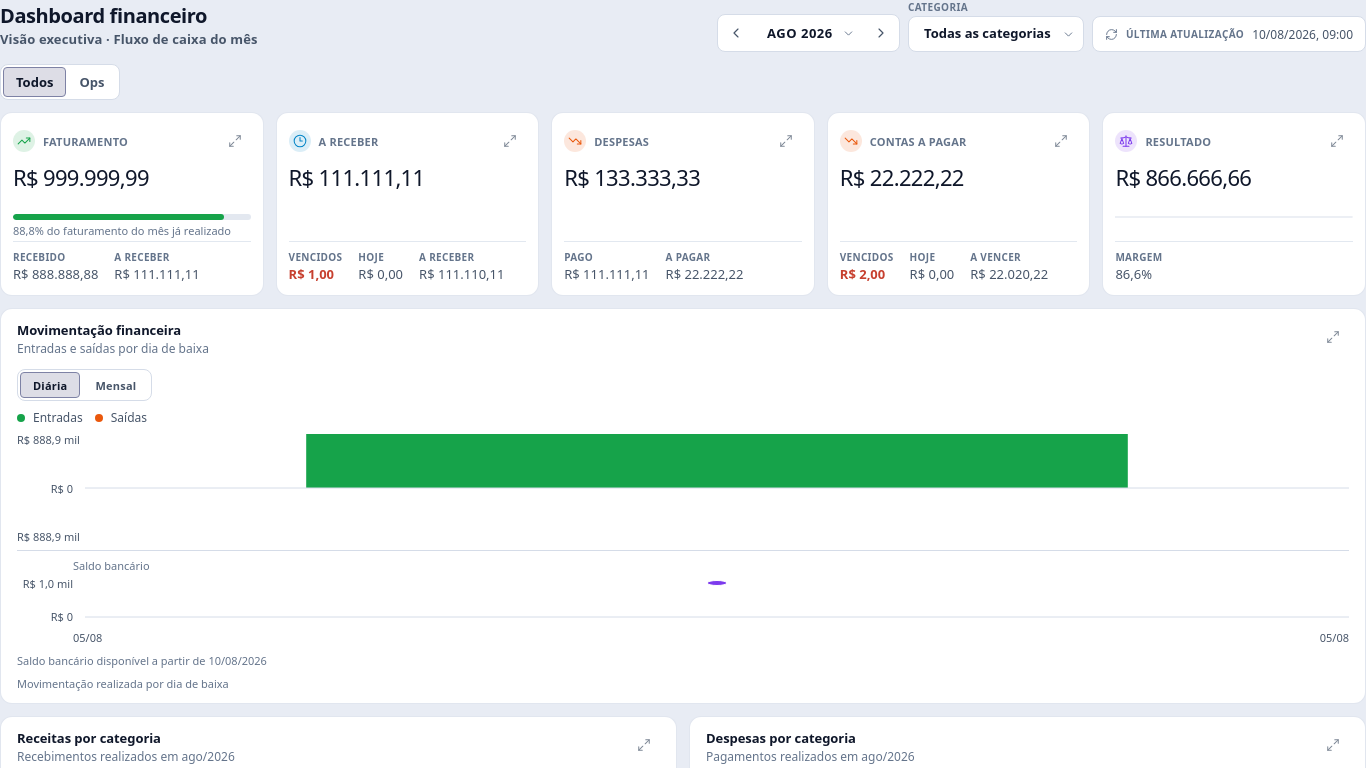
Test: 08-C3/C4 — linha de saldo bancário na Movimentação › Daily Realizado mostra Saldo bancário; Mensal Previsto não
This screenshot has width=1366, height=768.
Expected: the text "Saldo bancário" is shown, [73, 558, 150, 573]
Expected: the text "Saldo bancário disponível a partir de 10/08/2026" is shown, [17, 653, 267, 668]
Step 1. Click the button "Mensal" → (116, 385), box [82, 372, 149, 398]
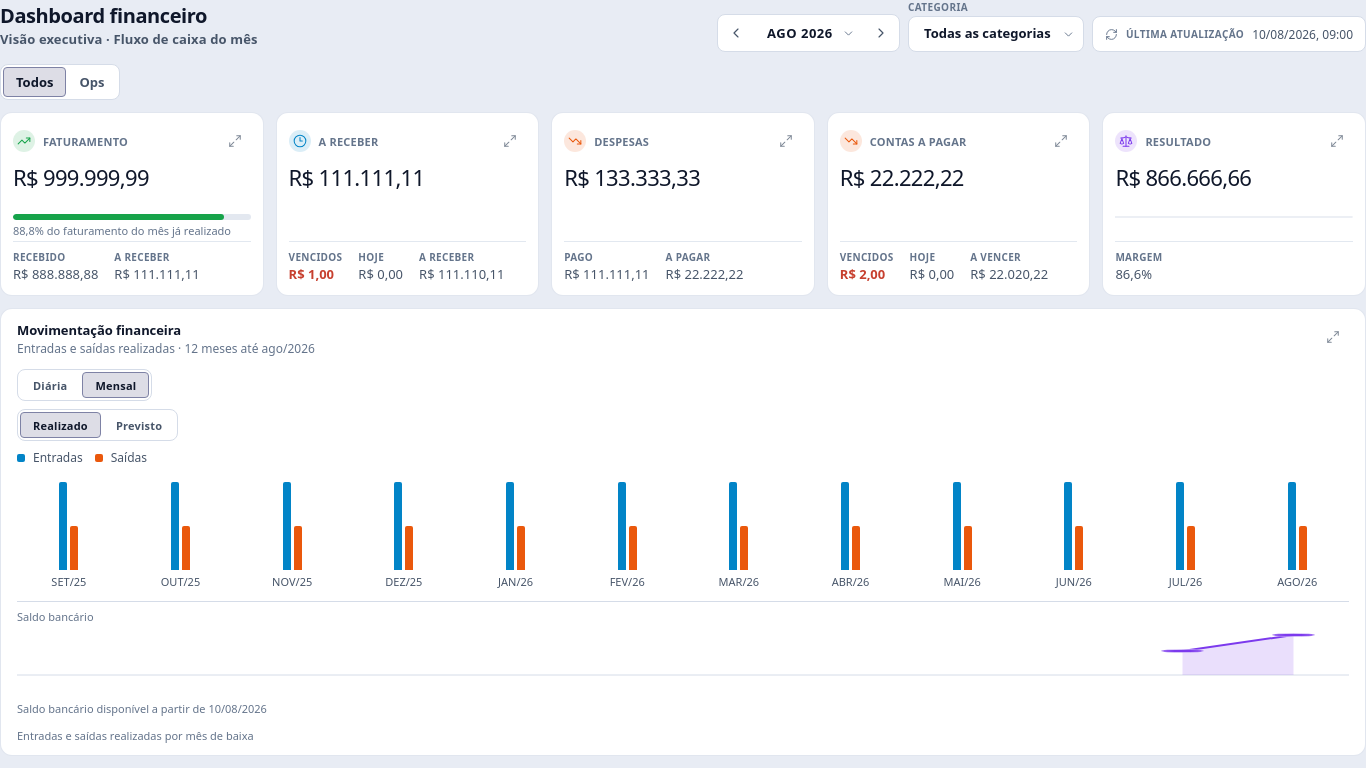
Expected: the text "Saldo bancário" is shown, [17, 609, 94, 624]
Step 2. Click the button "Previsto" → (139, 425), box [103, 412, 175, 438]
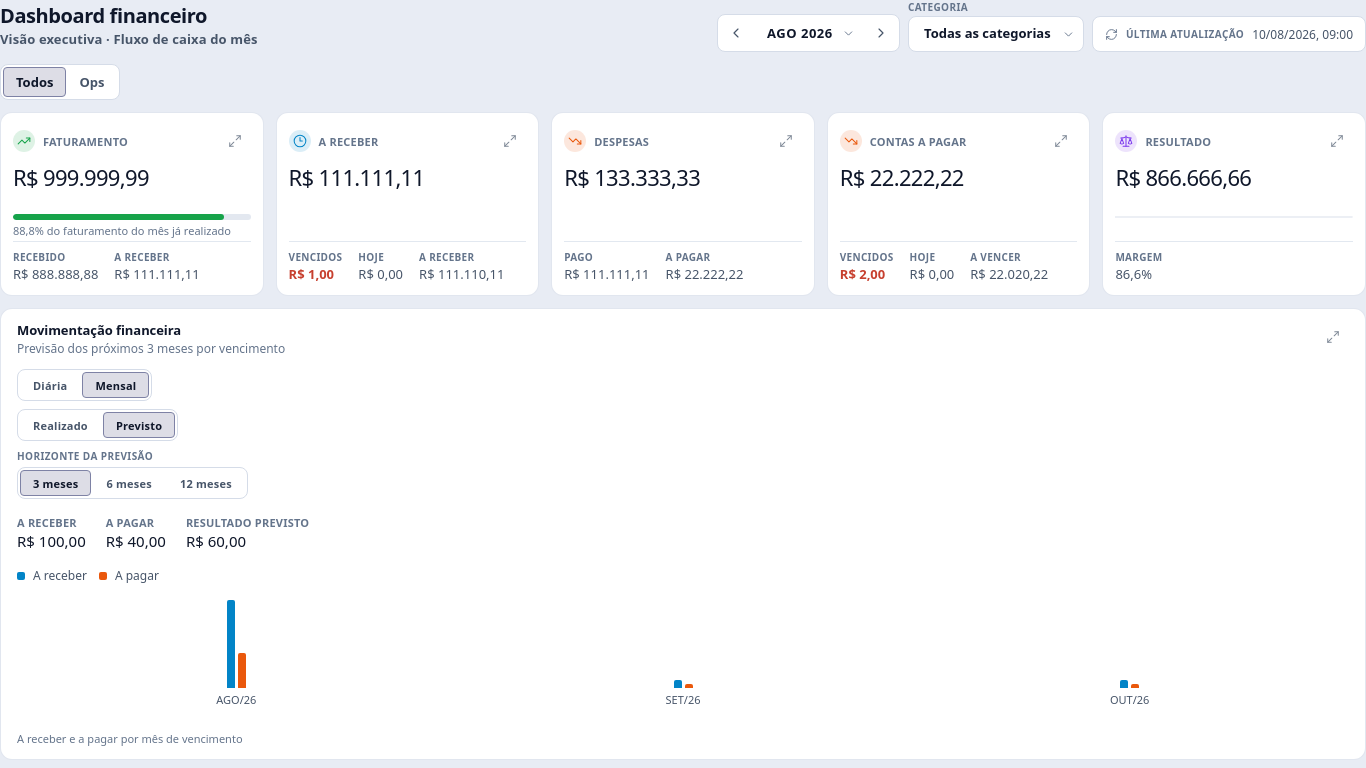
Expected: the text "Saldo bancário" is gone
